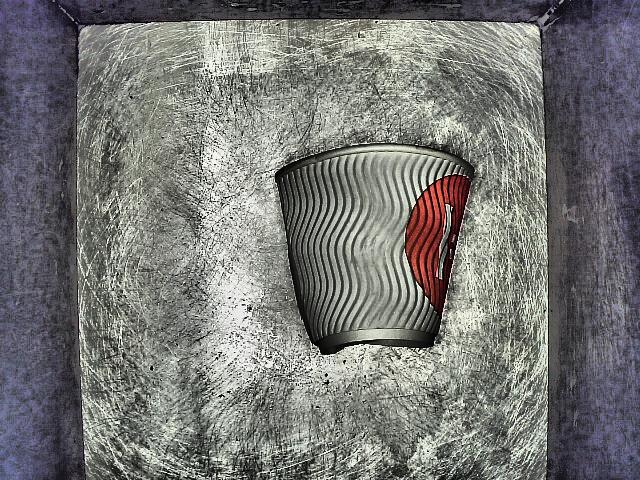Paper: (263, 126, 488, 392)
